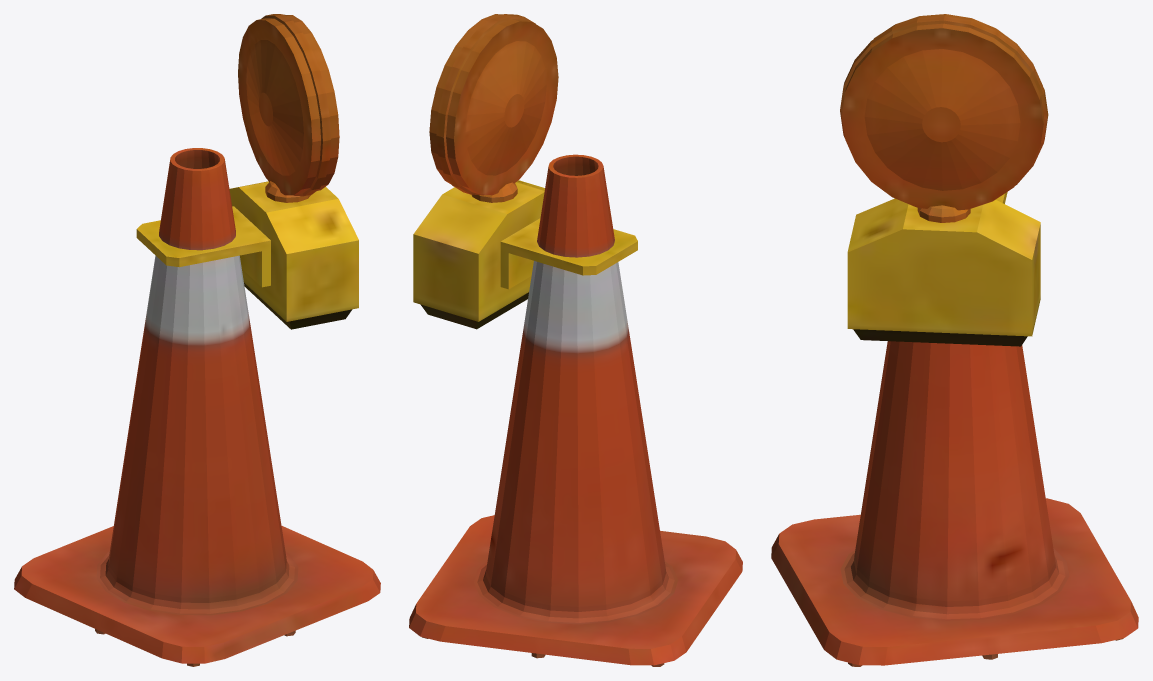
3 renders of one model, left to right at view 1: azimuth 30°, elevation 25°; view 2: azimuth 150°, elevation 25°; view 3: azimuth 270°, elevation 25°, orthographic. The views are drawn at different scales.
Visible parts, largest first — view 1: geometry_0; view 2: geometry_0; view 3: geometry_0.
Part boxes in pixels (x1,y1,x2,y2): geometry_0: (14,14,380,666); geometry_0: (409,14,742,666); geometry_0: (771,14,1138,666).
Bounding box in the file's own units: 0.3269 × 0.6131 × 0.3269.
1 material, 1 textured.
